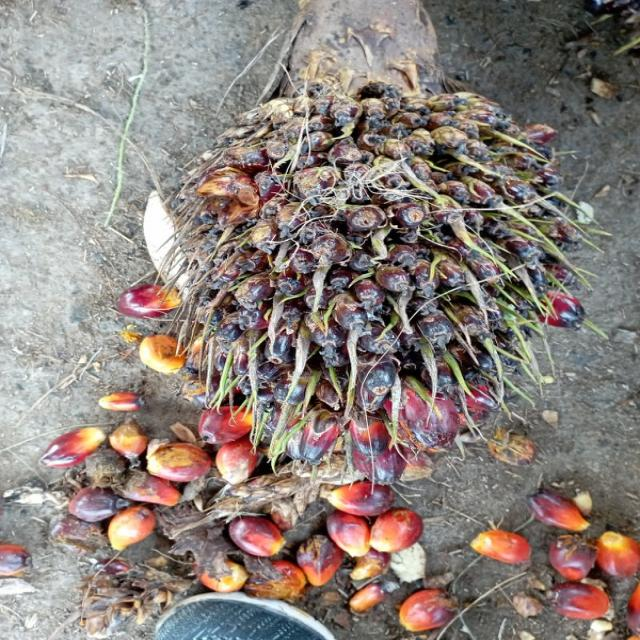fraksi 00: (160, 52, 587, 430)
